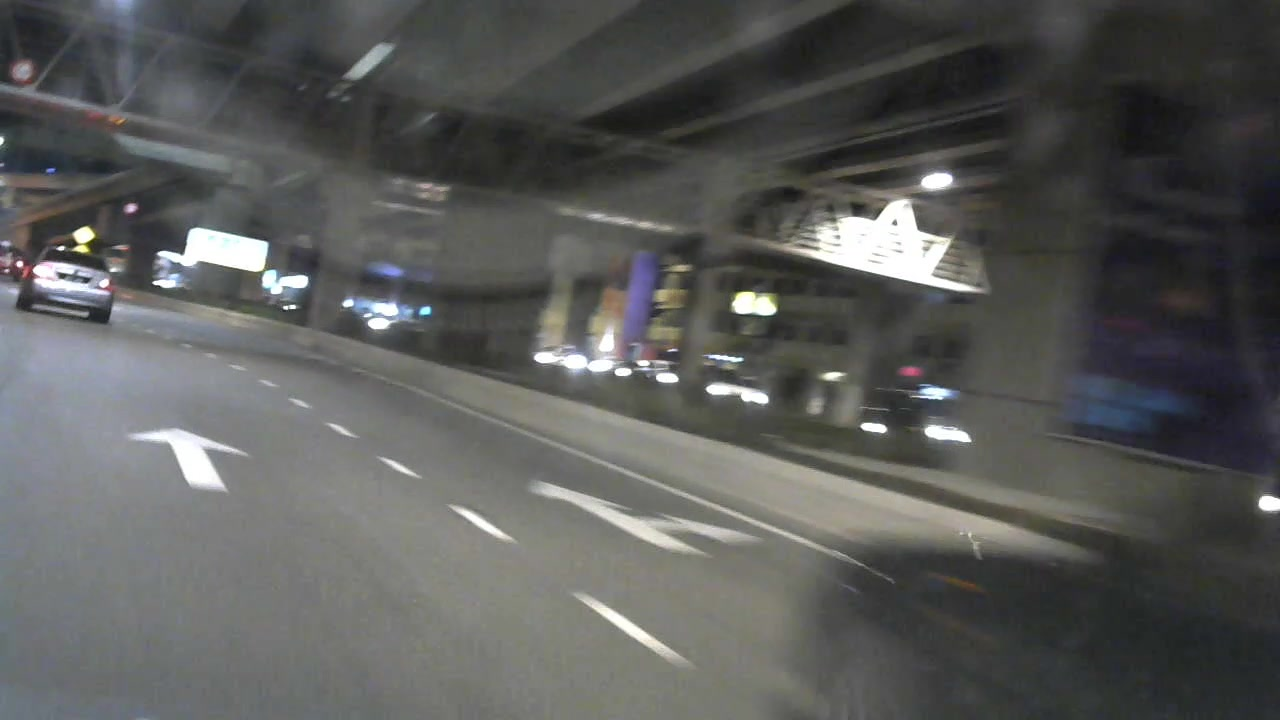Car: (15, 246, 124, 327)
